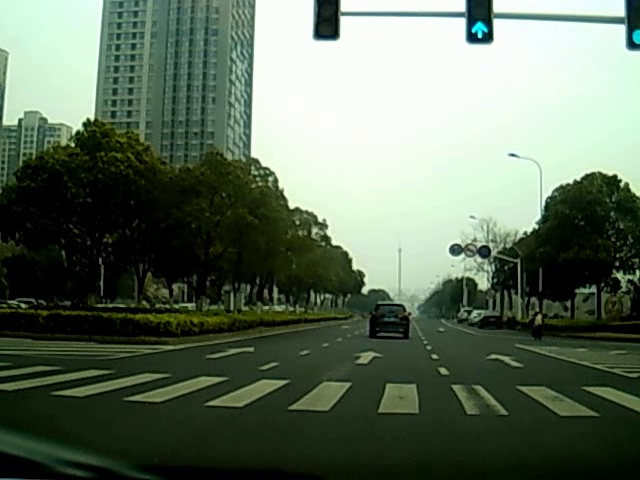Traffic_Light_go: (468, 6, 491, 43), (625, 18, 639, 48)
